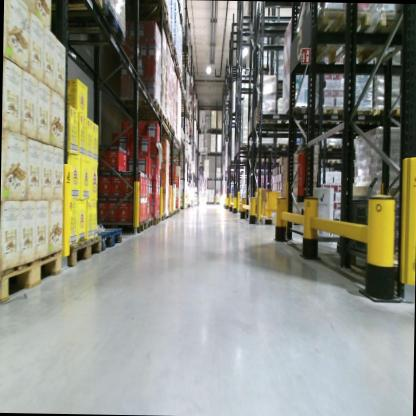pallet: (302, 7, 371, 70), (43, 1, 128, 49), (0, 246, 63, 304), (346, 10, 411, 66), (64, 234, 101, 269), (129, 1, 169, 31), (278, 101, 319, 130), (119, 106, 168, 126), (96, 218, 147, 237), (88, 227, 123, 252), (127, 1, 170, 20), (118, 96, 163, 114), (314, 102, 347, 126), (47, 0, 103, 14), (342, 109, 374, 122), (369, 106, 400, 119), (147, 125, 176, 135), (151, 119, 173, 130), (257, 140, 276, 152), (274, 142, 292, 150), (239, 142, 257, 150), (145, 216, 154, 227), (152, 214, 161, 225), (181, 50, 189, 60), (181, 61, 190, 69), (159, 211, 166, 220), (166, 210, 173, 217), (171, 209, 176, 216), (165, 212, 169, 219)
